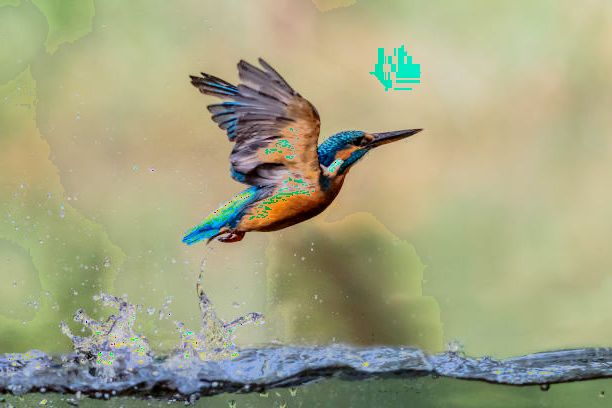Bird: (174, 53, 425, 246)
